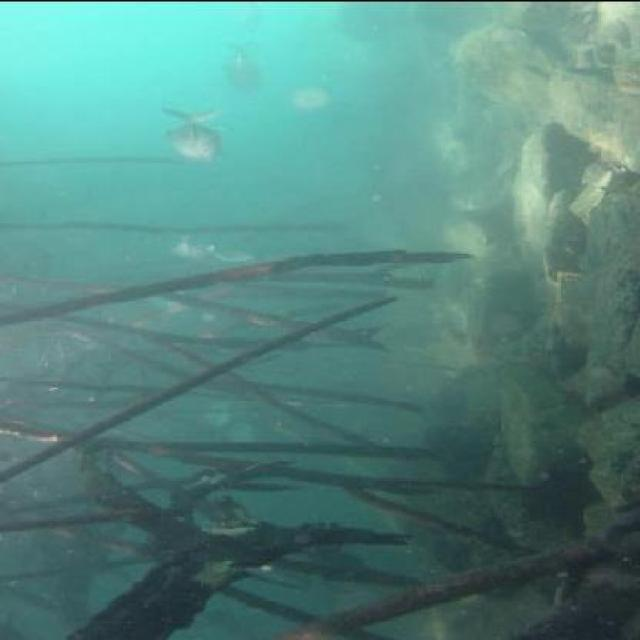Caranx_sexfasciatus_juvenile: (160, 93, 238, 165), (218, 43, 279, 99), (161, 236, 214, 262), (205, 248, 269, 269)
